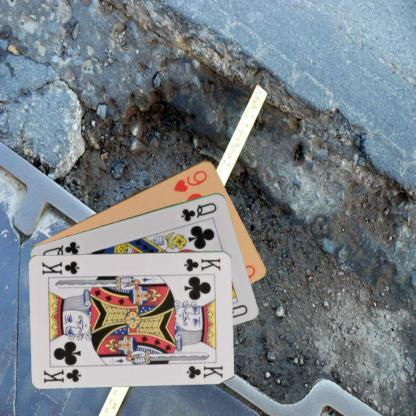9h: (170, 167, 208, 194)
Kc: (41, 366, 83, 384), (181, 255, 222, 273)
Qc: (178, 199, 219, 222)
